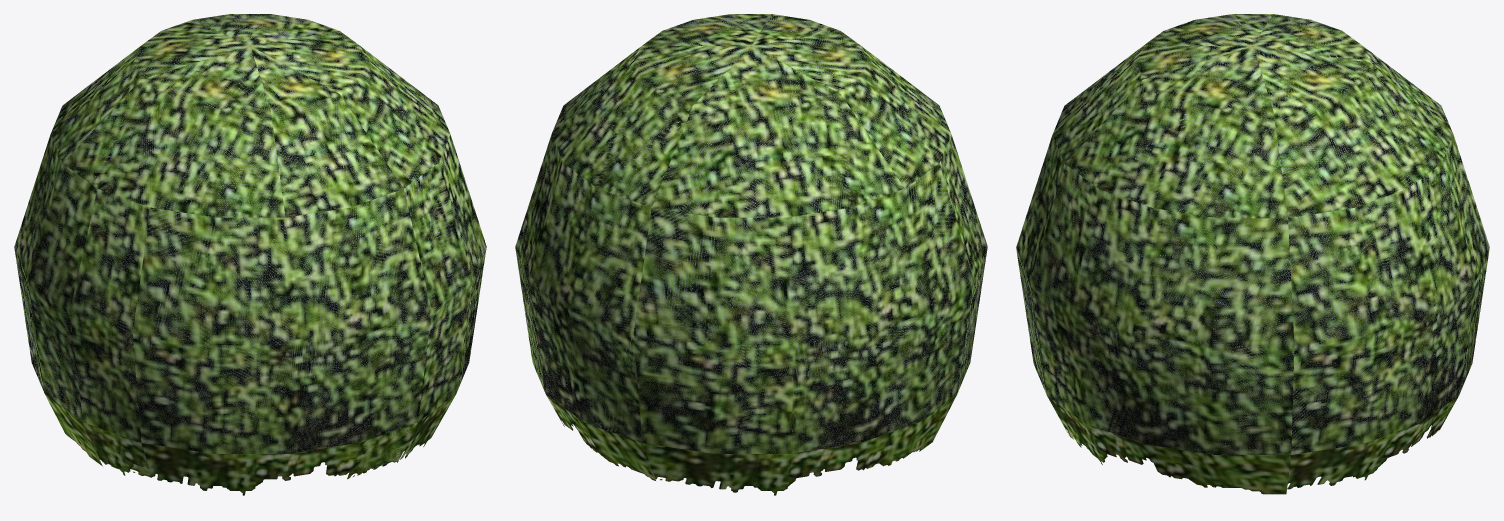
The picture shows the model from 3 angles, left to right: view 1: azimuth 30°, elevation 25°; view 2: azimuth 150°, elevation 25°; view 3: azimuth 270°, elevation 25°; orthographic projection.
Parts seen in each view (by area): view 1: group_0 (×2); view 2: group_0 (×2); view 3: group_0 (×2).
Part boxes in pixels (x1,y1,x2,y2): group_0 (×2): [14, 14, 486, 495]; group_0 (×2): [515, 14, 987, 495]; group_0 (×2): [1016, 14, 1489, 494].
Size of the model in its own units: 39.37 by 39.97 by 36.22.
